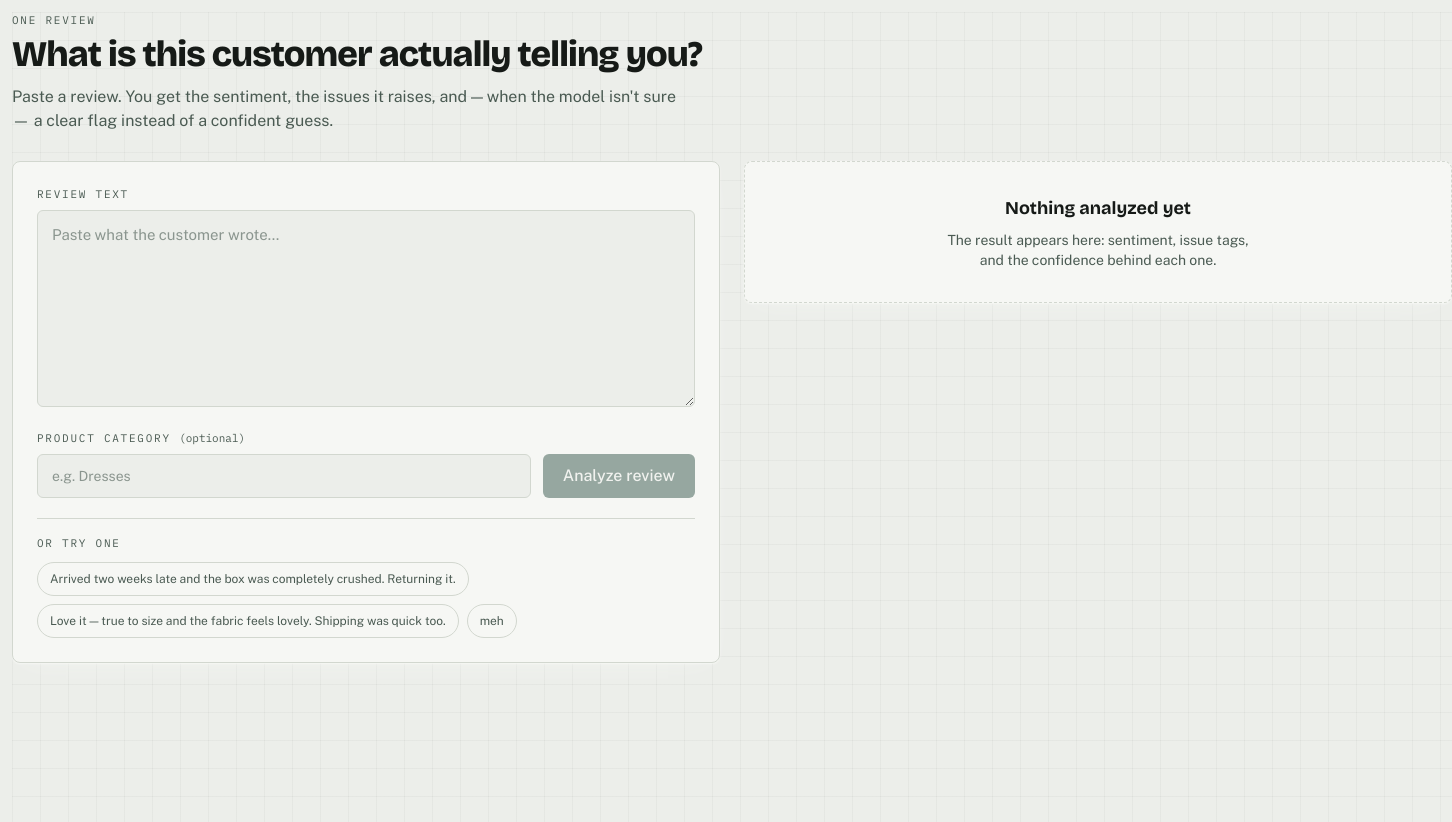
Test case: Analyzer › disables the button until there is text
The image size is (1452, 822).
Expected: the button "Analyze review" is disabled, left=543, top=454, right=695, bottom=498
Type "arrived late" into the text box labelled "Review text" at (366, 308), box left=37, top=210, right=695, bottom=407
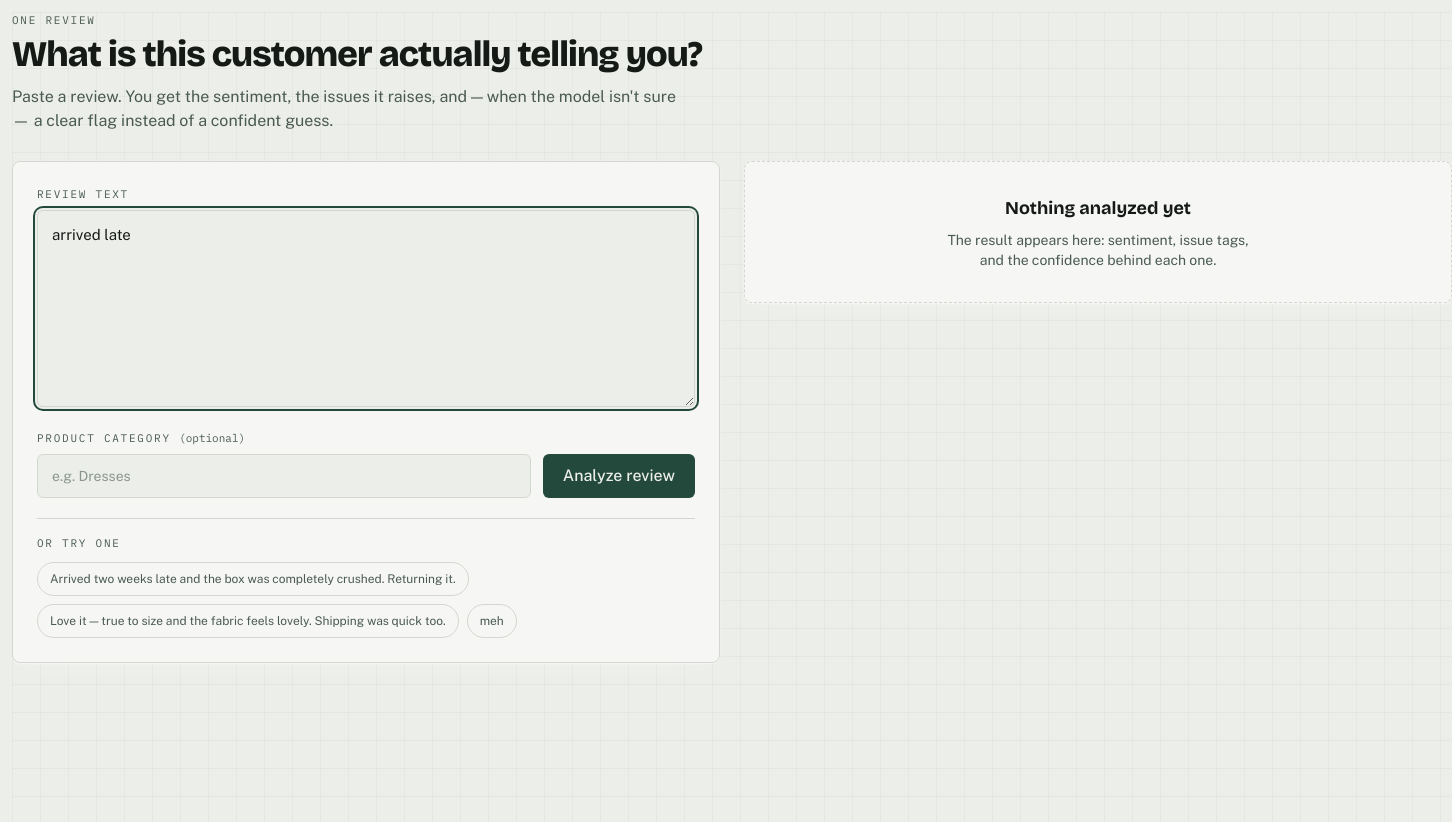
Expected: the button "Analyze review" is enabled, left=543, top=454, right=695, bottom=498
